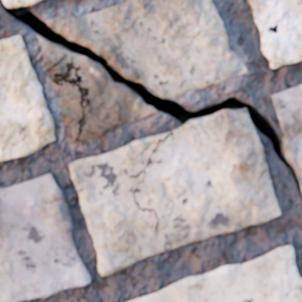brick: (69, 109, 279, 275), (0, 173, 90, 301), (126, 245, 301, 301), (0, 36, 55, 160), (247, 0, 301, 68), (271, 85, 301, 192), (3, 0, 42, 7)
broken_brick: (47, 0, 246, 98), (38, 36, 158, 143)
crack: (1, 0, 301, 195), (54, 56, 89, 139), (128, 131, 172, 186), (134, 188, 158, 231), (47, 54, 67, 71)
